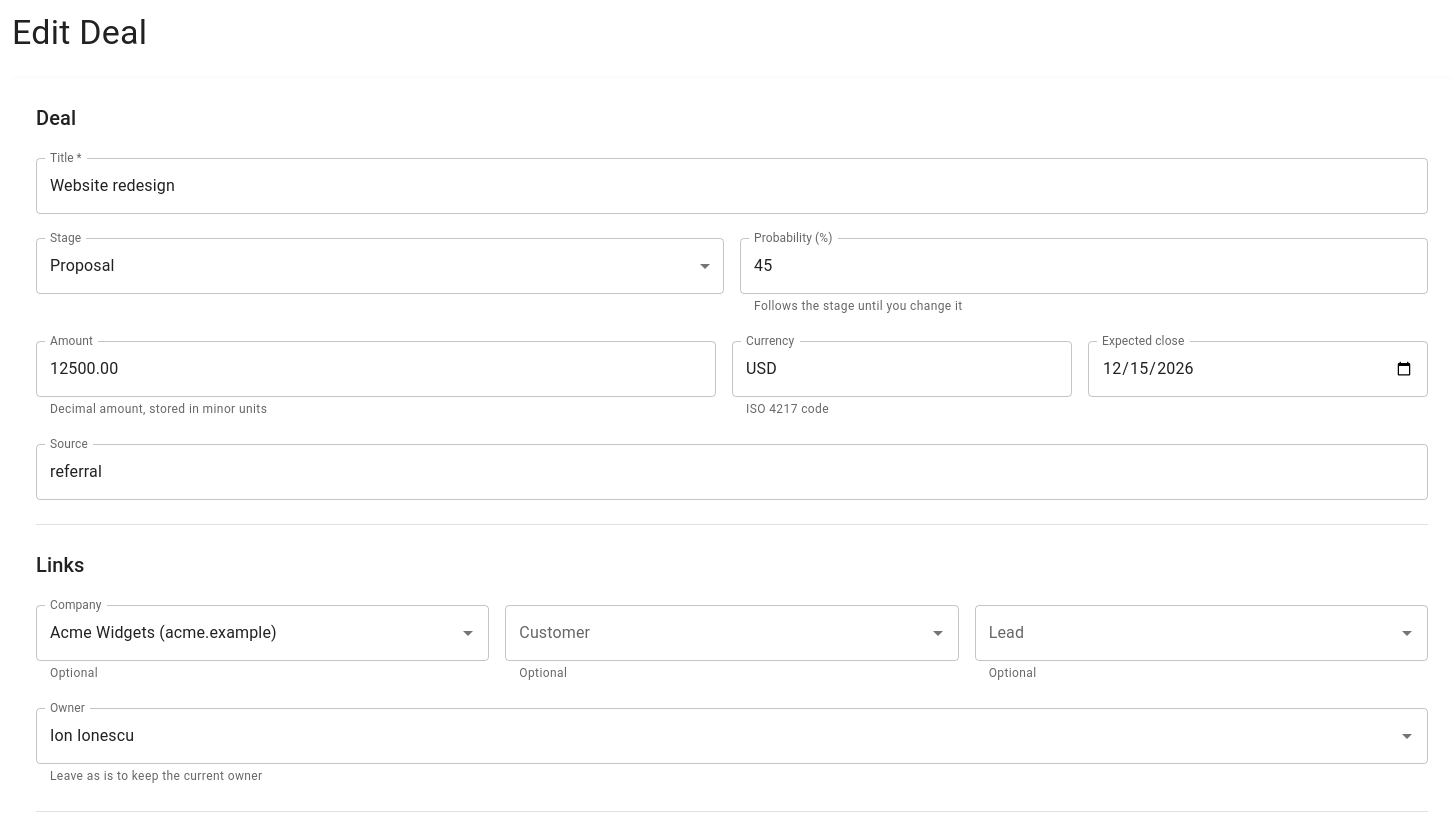
Scenario: DealForm › edit › takes the new stage default when the loaded probability was not edited
Expected: the number field labelled "Probability (%)" holds "45", [740,238,1428,294]
Press the mouse on the dropdown named "Stage" at (82, 266), box [50,256,115,276]
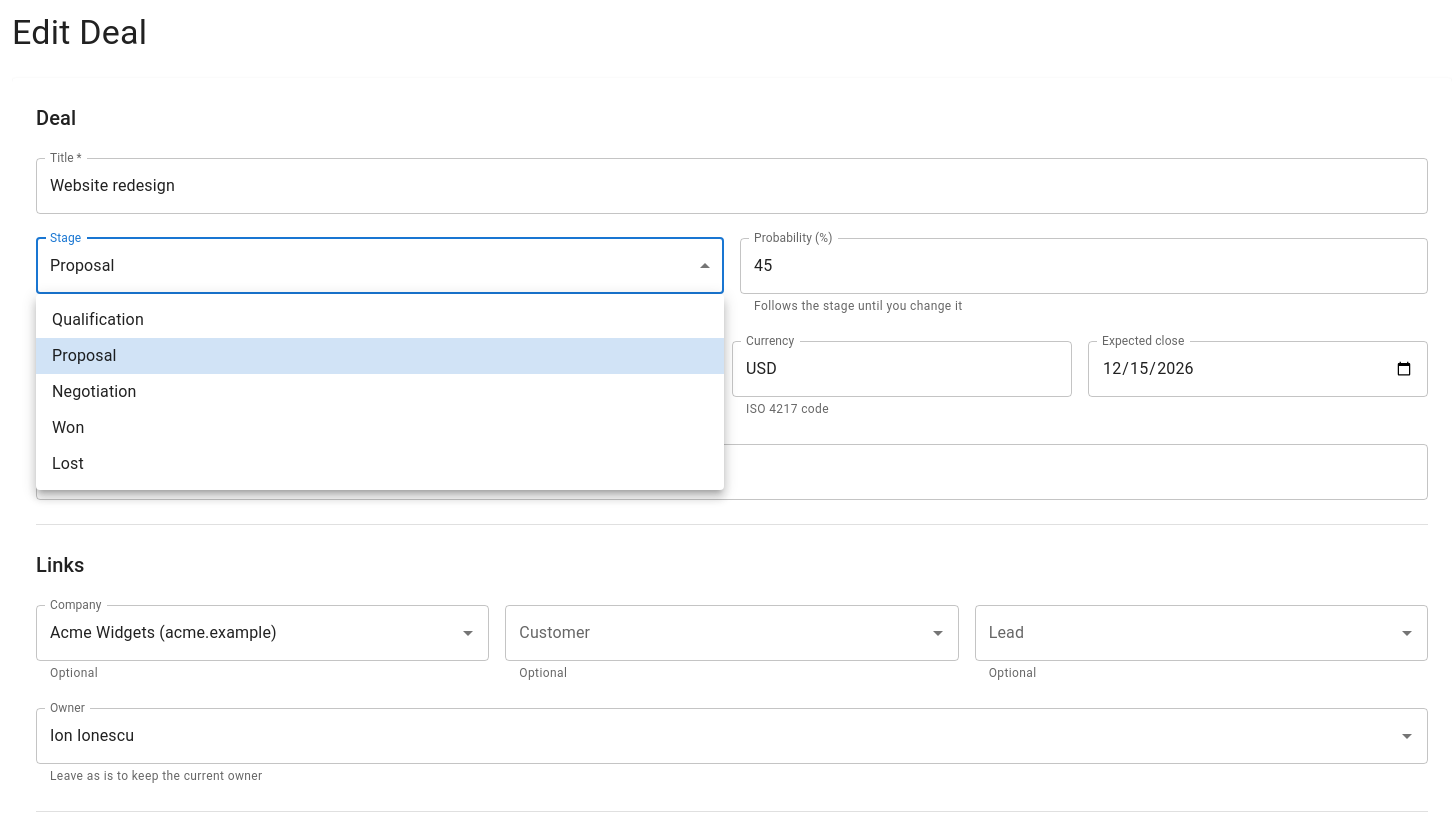
Click the option "Negotiation" at (94, 392), box [52,382,137,401]
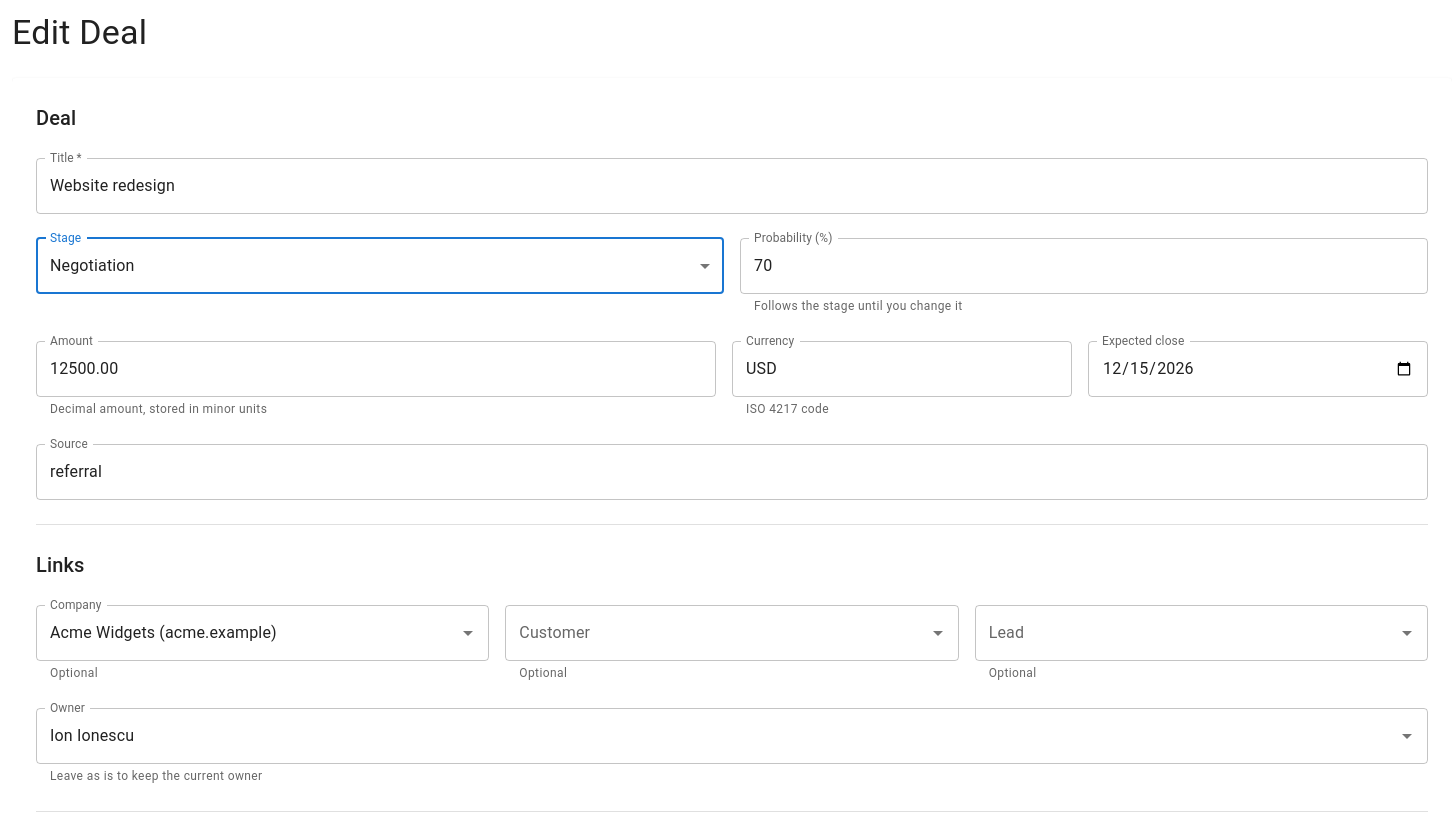
Expected: the number field labelled "Probability (%)" holds "70", [740,238,1428,294]
